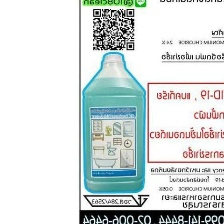cleaning_solution: (81, 49, 149, 196)
